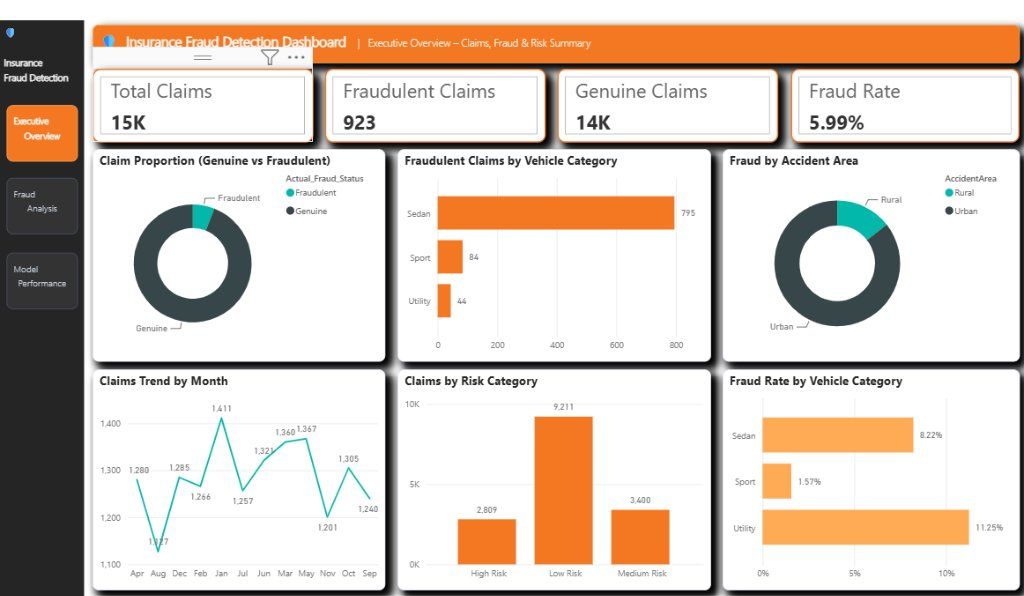

Layout of this report page (visuals, bound fields, positions):
{"tool":"powerbi","page":{"name":"Executive Overview","canvas":[1280,720],"ordinal":0},"visuals":[{"type":"textbox","box":[0,0,105,720],"z":0},{"type":"textbox","box":[8.2,105.7,89,70],"z":1000},{"type":"textbox","box":[8.2,196.2,89,70],"z":2000},{"type":"textbox","box":[8.2,289.5,89,70],"z":3000},{"type":"textbox","box":[115,6,1155,48],"z":4000},{"type":"cardVisual","title":"Total Claims","fields":{"Data":["fraud_predictions.Total Claims"]},"box":[115,60,275,92],"z":5000},{"type":"cardVisual","title":"Fraudulent Claims","fields":{"Data":["fraud_predictions.Fraudulent Claims"]},"box":[405,60,275,92],"z":6000},{"type":"cardVisual","title":"Genuine Claims","fields":{"Data":["fraud_predictions.Genuine Claims"]},"box":[695,60,275,92],"z":7000},{"type":"cardVisual","title":"Fraud Rate","fields":{"Data":["fraud_predictions.Fraud Rate"]},"box":[985,60,285,92],"z":8000},{"type":"donutChart","title":"Claim Proportion (Genuine vs Fraudulent)","fields":{"Category":["fraud_predictions.Actual_Fraud_Status"],"Y":["fraud_predictions.Total Claims"]},"box":[115,160,365,265],"z":9000},{"type":"clusteredBarChart","title":"Fraudulent Claims by Vehicle Category","fields":{"Category":["fraud_predictions.VehicleCategory"],"Y":["fraud_predictions.Fraudulent Claims"]},"box":[495,160,390,265],"z":10000},{"type":"donutChart","title":"Fraud by Accident Area","fields":{"Category":["fraud_predictions.AccidentArea"],"Y":["fraud_predictions.Fraudulent Claims"]},"box":[900,160,370,265],"z":11000},{"type":"lineChart","title":"Claims Trend by Month","fields":{"Y":["fraud_predictions.Total Claims","Sum(fraud_predictions.Year)"]},"box":[115,435,365,275],"z":12000},{"type":"clusteredColumnChart","title":"Claims by Risk Category","fields":{"Category":["fraud_predictions.Risk_Category"],"Y":["fraud_predictions.Total Claims"]},"box":[495,435,390,275],"z":13000},{"type":"clusteredBarChart","title":"Fraud Rate by Vehicle Category","fields":{"Category":["fraud_predictions.VehicleCategory"],"Y":["fraud_predictions.Fraud Rate"]},"box":[900,435,370,275],"z":14000}]}

Visuals, with their boxes in screenshot pixels (x1, y1, x2, y2):
textbox: (0,16,75,595)
textbox: (0,102,69,160)
textbox: (0,176,69,234)
textbox: (0,253,69,310)
textbox: (83,21,1023,60)
"Total Claims" cardVisual: (83,65,308,140)
"Fraudulent Claims" cardVisual: (321,65,546,140)
"Genuine Claims" cardVisual: (558,65,783,140)
"Fraud Rate" cardVisual: (795,65,1023,140)
"Claim Proportion (Genuine vs Fraudulent)" donutChart: (83,147,382,364)
"Fraudulent Claims by Vehicle Category" clusteredBarChart: (394,147,713,364)
"Fraud by Accident Area" donutChart: (725,147,1023,364)
"Claims Trend by Month" lineChart: (83,372,382,595)
"Claims by Risk Category" clusteredColumnChart: (394,372,713,595)
"Fraud Rate by Vehicle Category" clusteredBarChart: (725,372,1023,595)
